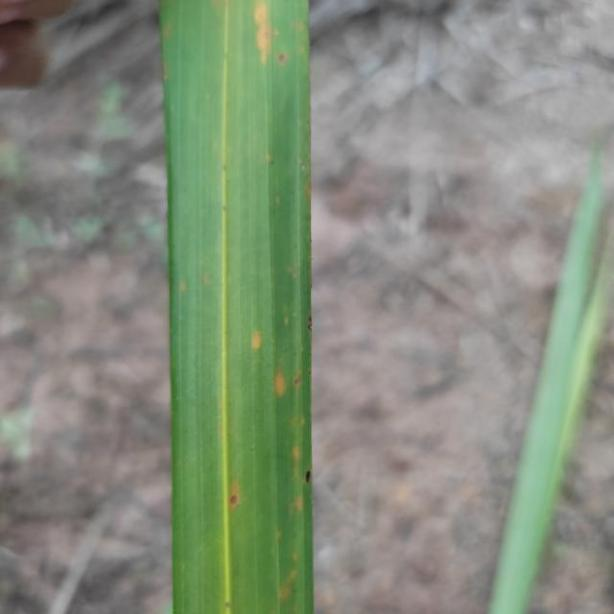nitrogen: (157, 0, 310, 614)
